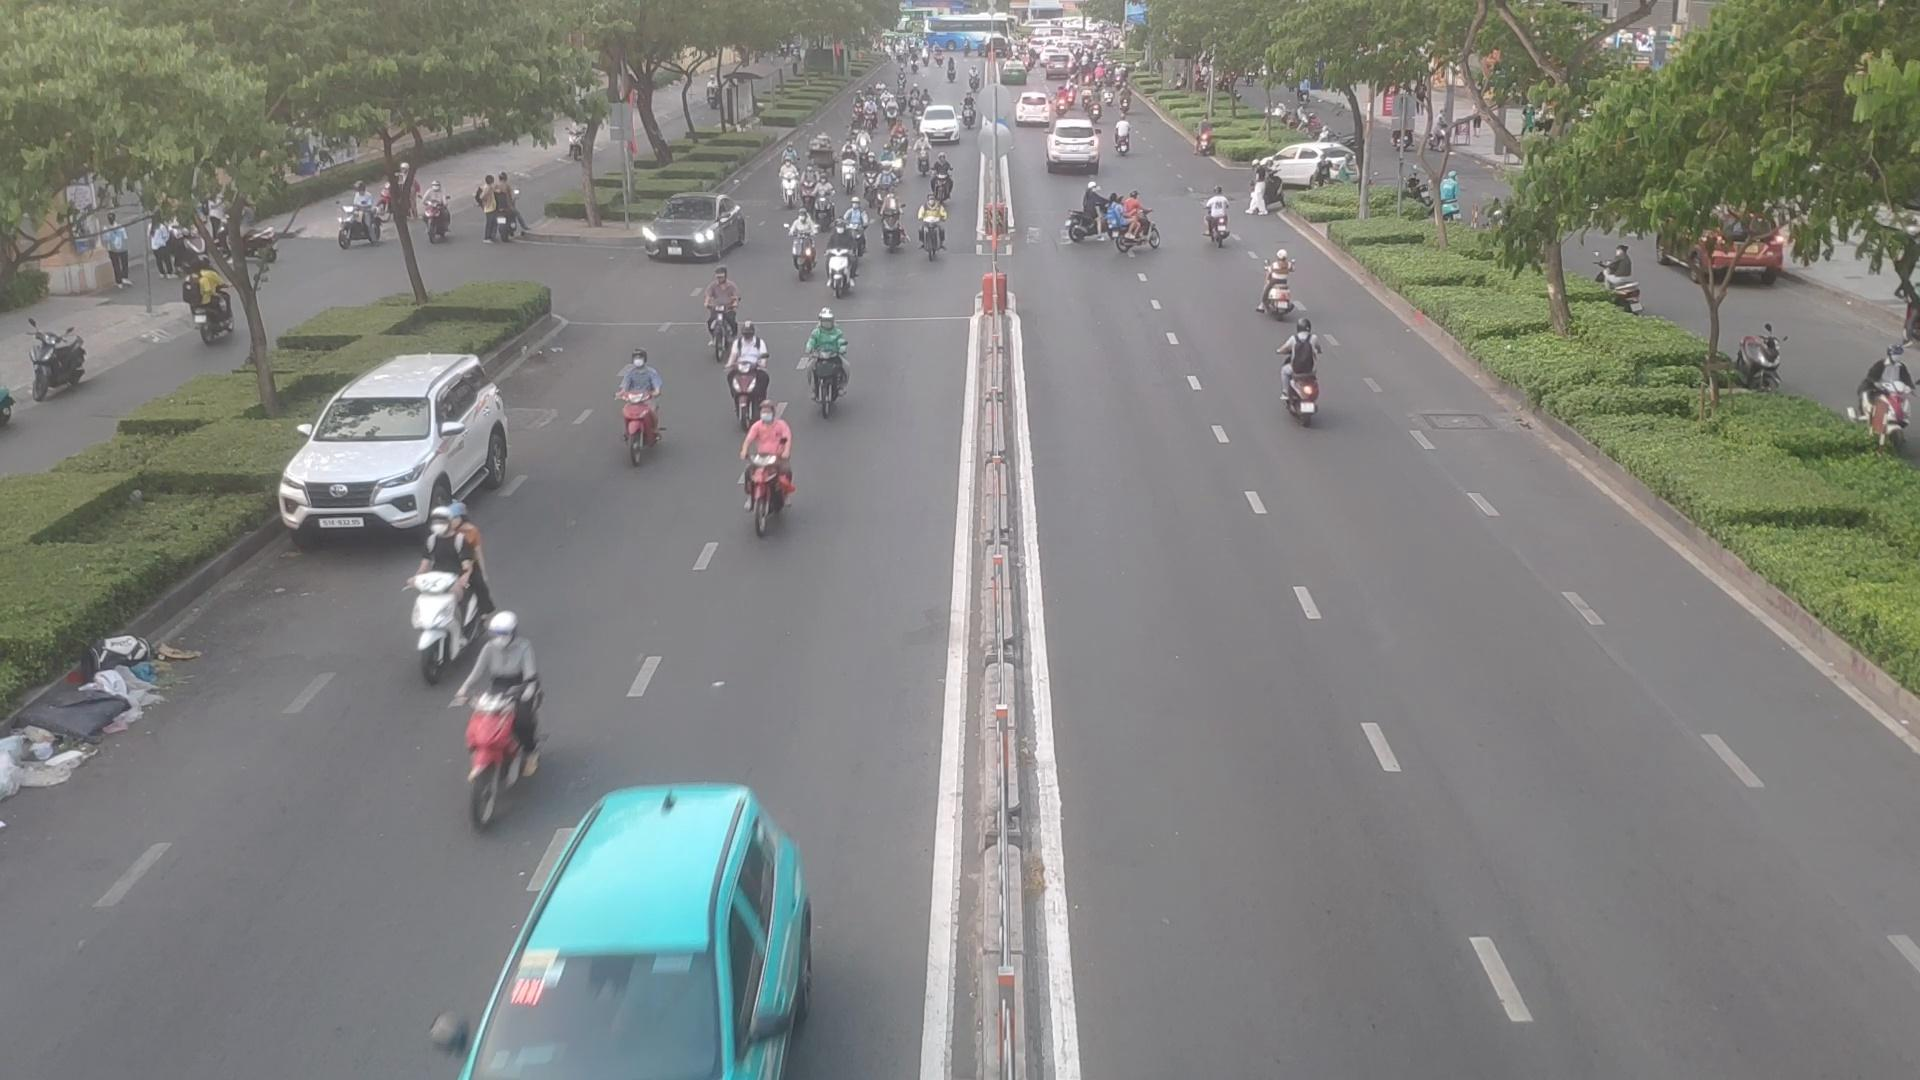car: (452, 793, 827, 1080), (280, 355, 516, 546), (637, 194, 746, 261), (1258, 142, 1360, 189), (1047, 123, 1097, 170)
motorbike: (409, 500, 488, 702), (458, 611, 531, 816), (615, 349, 667, 472), (745, 400, 790, 535), (1112, 194, 1168, 261), (698, 272, 741, 353), (1276, 314, 1309, 419), (1064, 182, 1114, 243), (1254, 255, 1296, 318), (814, 309, 840, 401), (1200, 190, 1237, 253), (782, 214, 815, 277), (735, 331, 760, 414), (920, 196, 945, 260), (828, 223, 848, 291), (881, 193, 905, 249), (845, 200, 869, 252), (913, 135, 934, 179), (862, 153, 881, 199), (930, 156, 949, 195), (818, 174, 829, 227), (844, 154, 861, 190), (804, 170, 818, 204), (785, 166, 796, 203), (895, 127, 909, 157), (856, 133, 872, 156)
